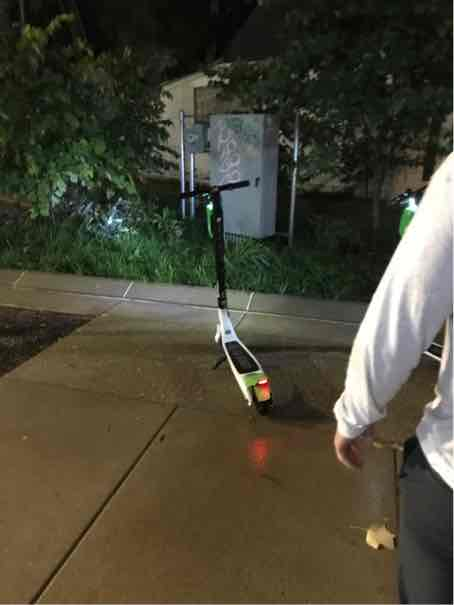scooter: (166, 178, 275, 423)
